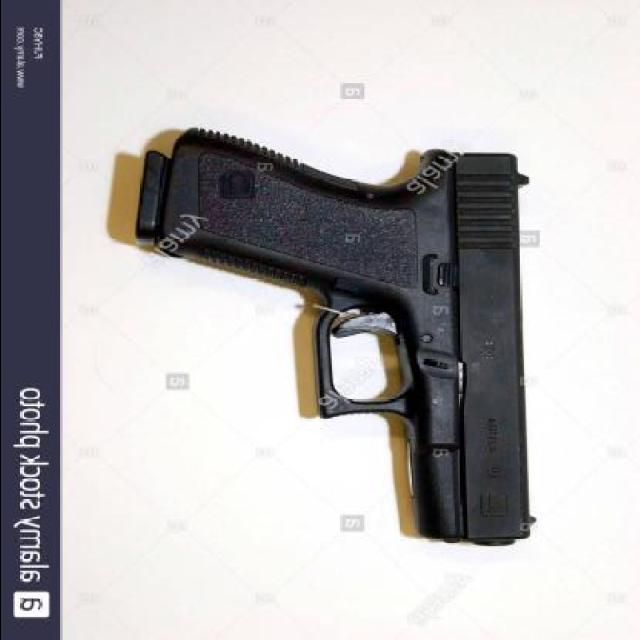pistol: (137, 128, 537, 550)
